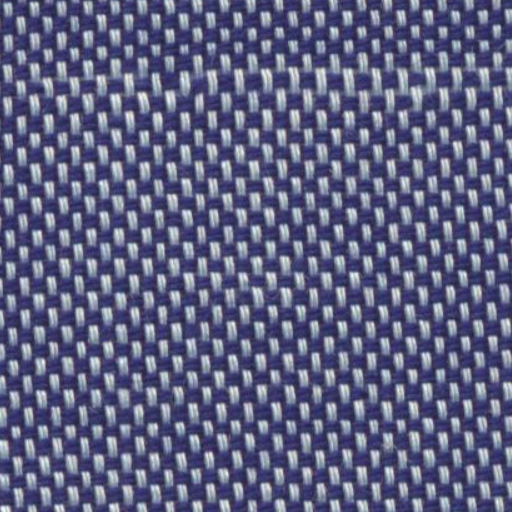TuoSha: (20, 47, 485, 132)
